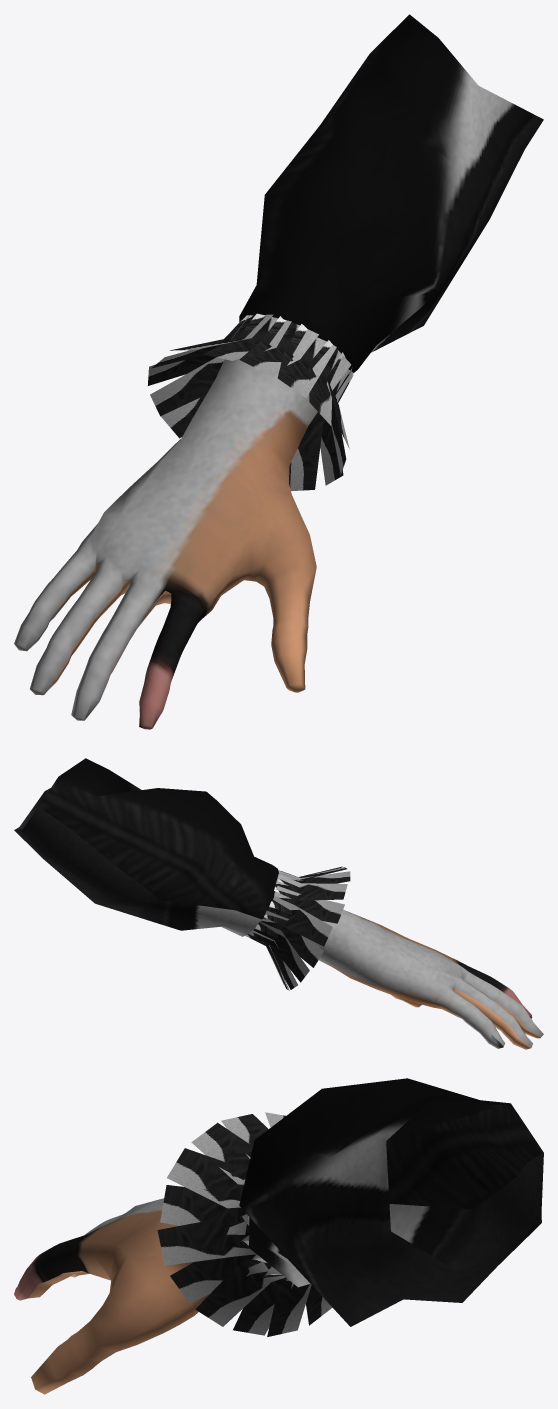
File: Larm2.obj
3 renders of one model, top to bottom at view 1: azimuth 30°, elevation 25°; view 2: azimuth 150°, elevation 25°; view 3: azimuth 270°, elevation 25°, orthographic. The views are drawn at different scales.
Visible parts, largest first — view 1: Nier2b:Cube polySurface50 polySurface48 polySurface44 polySurfac, Nier2b:Cube polySurface31, Nier2b:Cube polySurface33, Nier2b:Cube polySurface41, Nier2b:Cube polySurface38, Nier2b:Cube polySurface37, polySurface35 Nier2b:Cube, Nier2b:Cube polySurface32, Nier2b:Cube polySurface40; view 2: Nier2b:Cube polySurface50 polySurface48 polySurface44 polySurfac, Nier2b:Cube polySurface40, Nier2b:Cube polySurface30, Nier2b:Cube polySurface43, Nier2b:Cube polySurface33, Nier2b:Cube polySurface42, polySurface35 Nier2b:Cube, Nier2b:Cube polySurface29; view 3: Nier2b:Cube polySurface50 polySurface48 polySurface44 polySurfac, Nier2b:Cube polySurface34, Nier2b:Cube polySurface31, Nier2b:Cube polySurface32, Nier2b:Cube polySurface37, Nier2b:Cube polySurface36, Nier2b:Cube polySurface41, Nier2b:Cube polySurface28, Nier2b:Cube polySurface38, polySurface35 Nier2b:Cube, Nier2b:Cube polySurface39.
Part boxes in pixels (box(x1,y1,x2,y2)): Nier2b:Cube polySurface50 polySurface48 polySurface44 polySurfac: box(14, 14, 543, 729); Nier2b:Cube polySurface31: box(277, 324, 336, 397); Nier2b:Cube polySurface33: box(150, 357, 224, 416); Nier2b:Cube polySurface41: box(239, 316, 318, 374); Nier2b:Cube polySurface38: box(290, 412, 323, 491); Nier2b:Cube polySurface37: box(308, 340, 351, 425); polySurface35 Nier2b:Cube: box(203, 313, 291, 360); Nier2b:Cube polySurface32: box(320, 375, 353, 485); Nier2b:Cube polySurface40: box(148, 320, 241, 385); Nier2b:Cube polySurface50 polySurface48 polySurface44 polySurfac: box(14, 758, 543, 1049); Nier2b:Cube polySurface40: box(264, 896, 332, 946); Nier2b:Cube polySurface30: box(269, 886, 344, 923); Nier2b:Cube polySurface43: box(274, 874, 347, 900); Nier2b:Cube polySurface33: box(255, 910, 323, 967); Nier2b:Cube polySurface42: box(249, 921, 309, 982); polySurface35 Nier2b:Cube: box(278, 870, 350, 889); Nier2b:Cube polySurface29: box(245, 930, 297, 989); Nier2b:Cube polySurface50 polySurface48 polySurface44 polySurfac: box(14, 1078, 543, 1394); Nier2b:Cube polySurface34: box(157, 1216, 256, 1265); Nier2b:Cube polySurface31: box(167, 1148, 247, 1208); Nier2b:Cube polySurface32: box(195, 1258, 285, 1326); Nier2b:Cube polySurface37: box(160, 1185, 247, 1234); Nier2b:Cube polySurface36: box(170, 1240, 269, 1303); Nier2b:Cube polySurface41: box(191, 1122, 252, 1184); Nier2b:Cube polySurface28: box(267, 1280, 311, 1336); Nier2b:Cube polySurface38: box(233, 1274, 293, 1335); polySurface35 Nier2b:Cube: box(221, 1114, 268, 1158); Nier2b:Cube polySurface39: box(303, 1285, 332, 1325).
Size of the model in its own units: 7.12 by 4.68 by 4.81.
